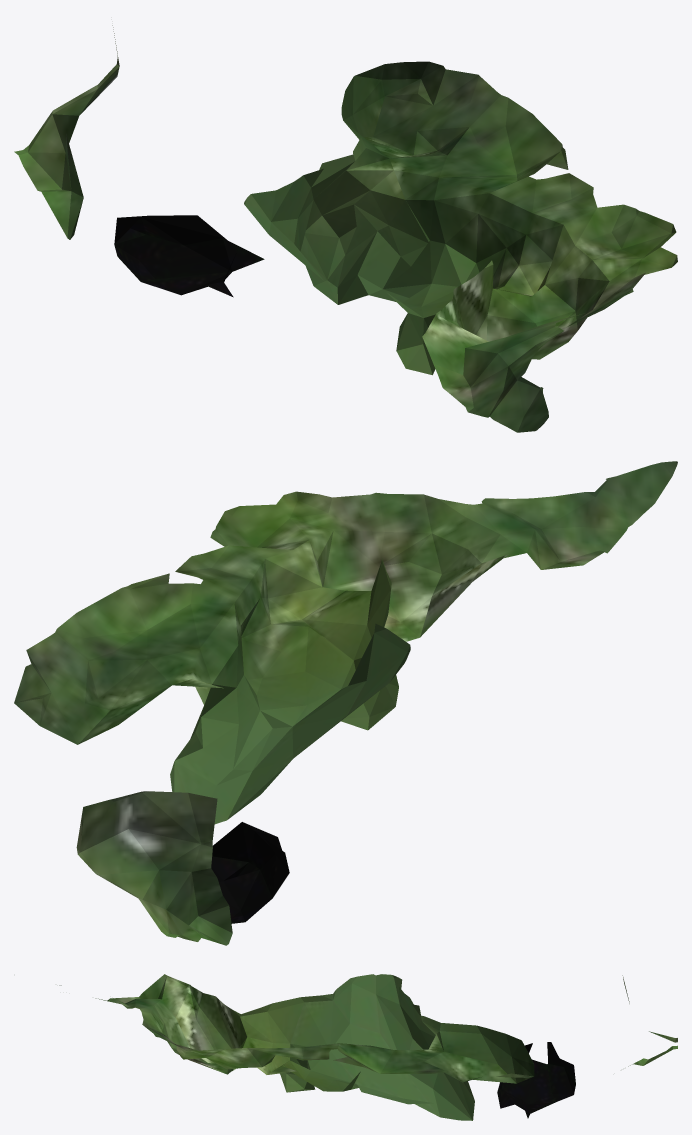
The picture shows the model from 3 angles, top to bottom: view 1: azimuth 30°, elevation 25°; view 2: azimuth 150°, elevation 25°; view 3: azimuth 270°, elevation 25°; orthographic projection. The views are drawn at different scales.
Bounding box in the file's own units: 7.96 × 4.48 × 23.4.
Materials: 1 (1 with a texture image).
